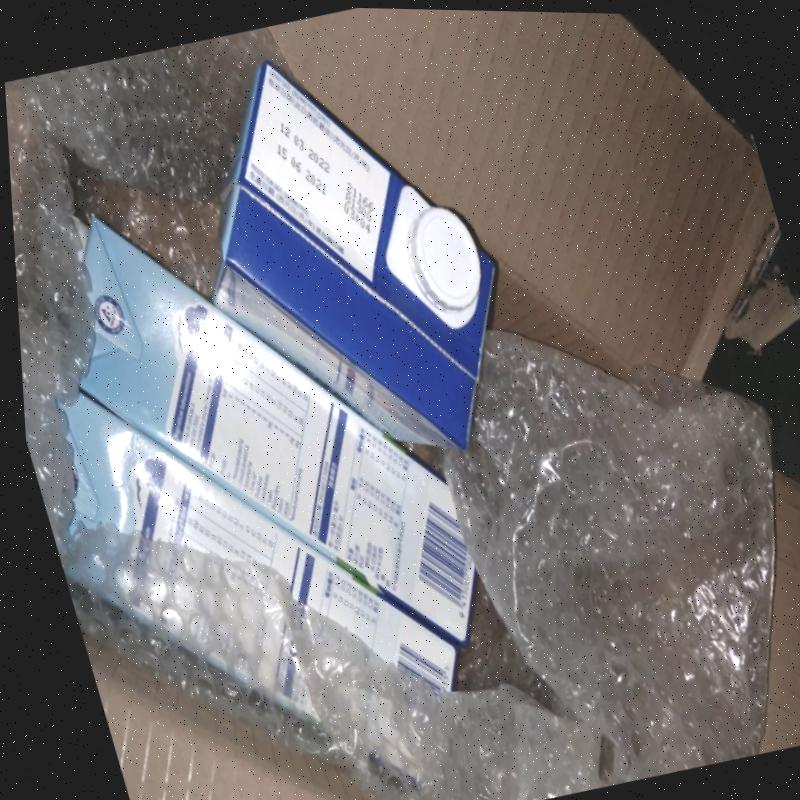uht carton: (78, 217, 472, 648), (64, 394, 455, 692), (207, 58, 495, 450)
